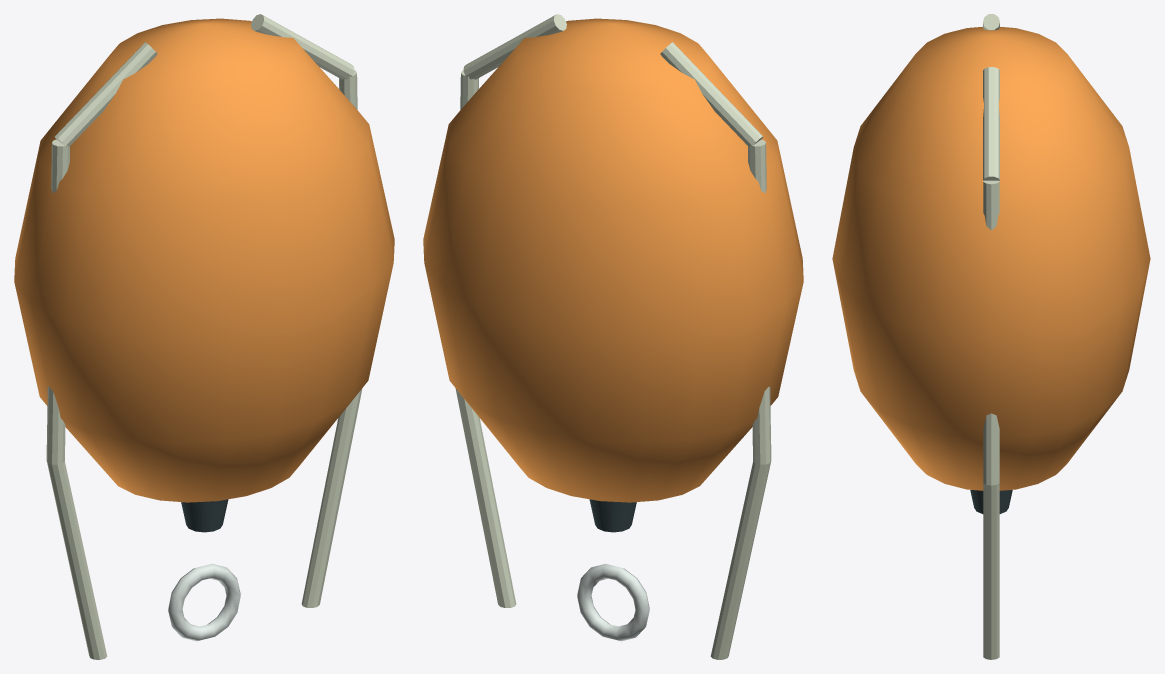
File: diving-and-underwater-salvage-lift-bag-inflated-58b2fafc__28442.glb
The picture shows the model from 3 angles, left to right: view 1: azimuth 30°, elevation 25°; view 2: azimuth 150°, elevation 25°; view 3: azimuth 270°, elevation 25°; orthographic projection. The views are drawn at different scales.
Visible parts, largest first — view 1: lift-bag-inflated-orange, lift-bag-inflated-rope, lift-bag-inflated-pale, lift-bag-inflated-dark; view 2: lift-bag-inflated-orange, lift-bag-inflated-rope, lift-bag-inflated-pale, lift-bag-inflated-dark; view 3: lift-bag-inflated-orange, lift-bag-inflated-rope, lift-bag-inflated-dark.
Part boxes in pixels (bbox=[...]): lift-bag-inflated-orange: bbox=[14, 18, 394, 502]; lift-bag-inflated-rope: bbox=[46, 14, 362, 659]; lift-bag-inflated-pale: bbox=[168, 563, 240, 641]; lift-bag-inflated-dark: bbox=[181, 499, 228, 532]; lift-bag-inflated-orange: bbox=[423, 18, 803, 502]; lift-bag-inflated-rope: bbox=[455, 14, 771, 659]; lift-bag-inflated-pale: bbox=[577, 563, 649, 641]; lift-bag-inflated-dark: bbox=[589, 499, 636, 532]; lift-bag-inflated-orange: bbox=[832, 27, 1150, 490]; lift-bag-inflated-rope: bbox=[983, 14, 999, 659]; lift-bag-inflated-dark: bbox=[970, 490, 1012, 513].
Size of the model in its own units: 1.3 by 2.21 by 1.1.
